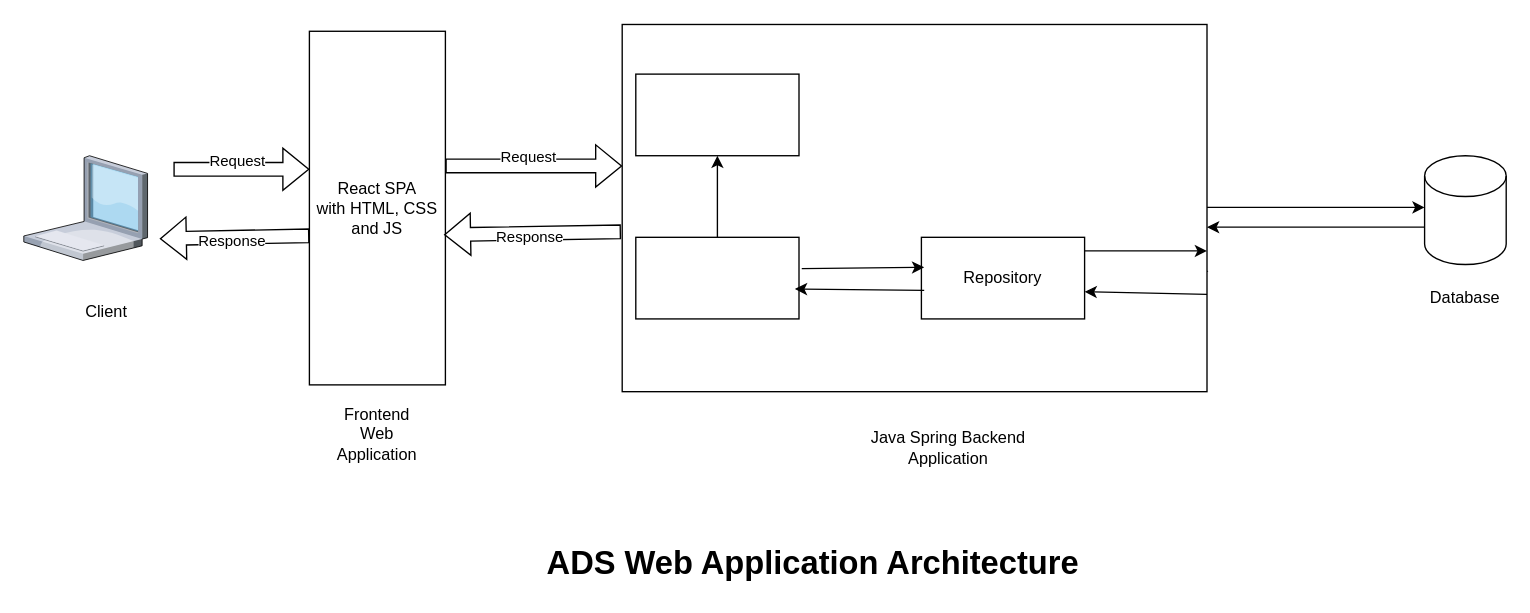
This 1530x613 diagram has some shape labels left out. Here are the shapes that lost their labels. From the top down, the box of each, then its label:
(634, 73, 799, 156): RestController
(634, 236, 799, 319): Service
